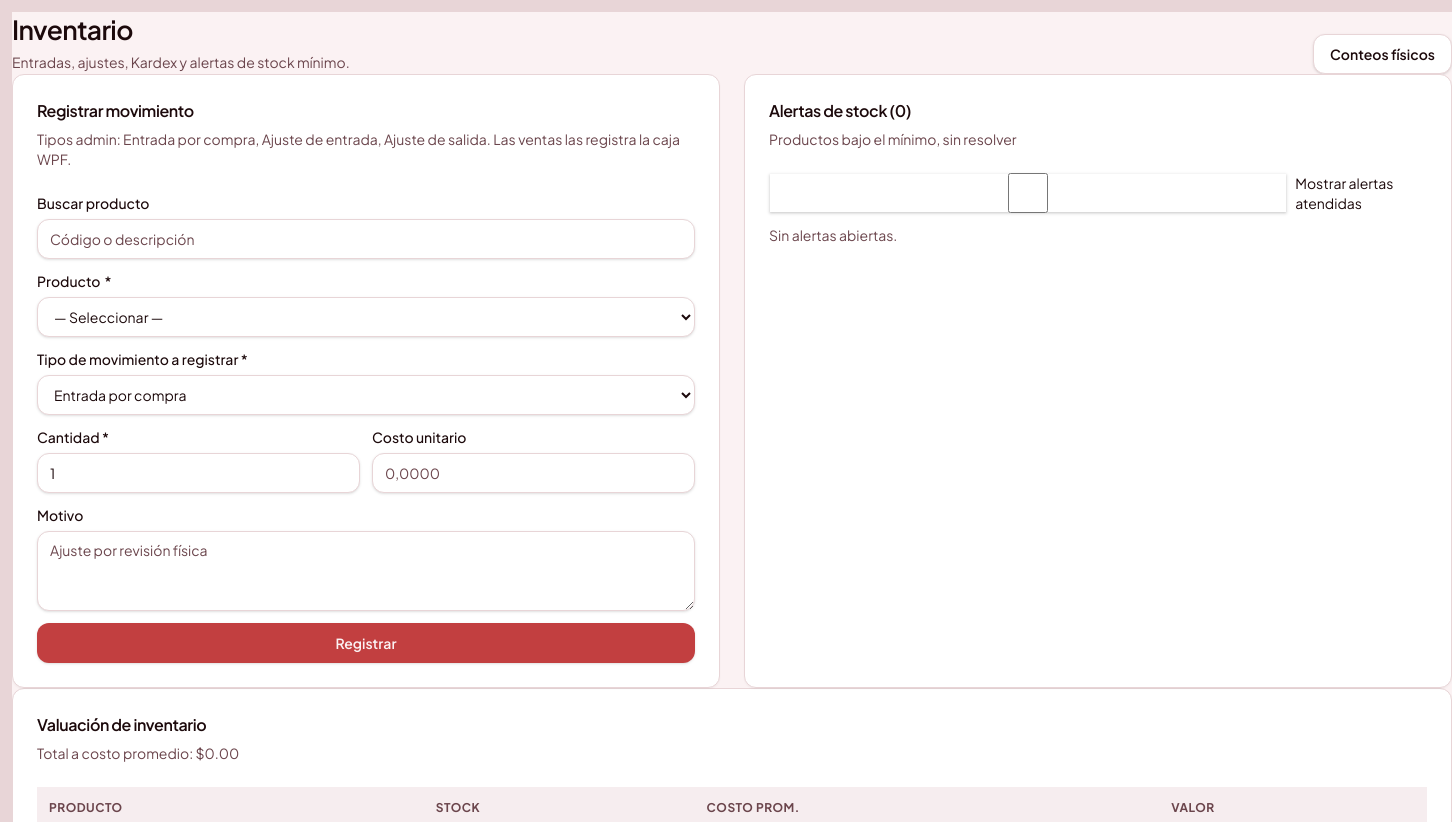
Test: tabla de movimientos de inventario › rechaza un costo unitario negativo antes de abrir la confirmacion
Select "P-1 — Producto 1 (stock 5)" in the dropdown labelled "Producto": (366,317) [37,297,695,337]
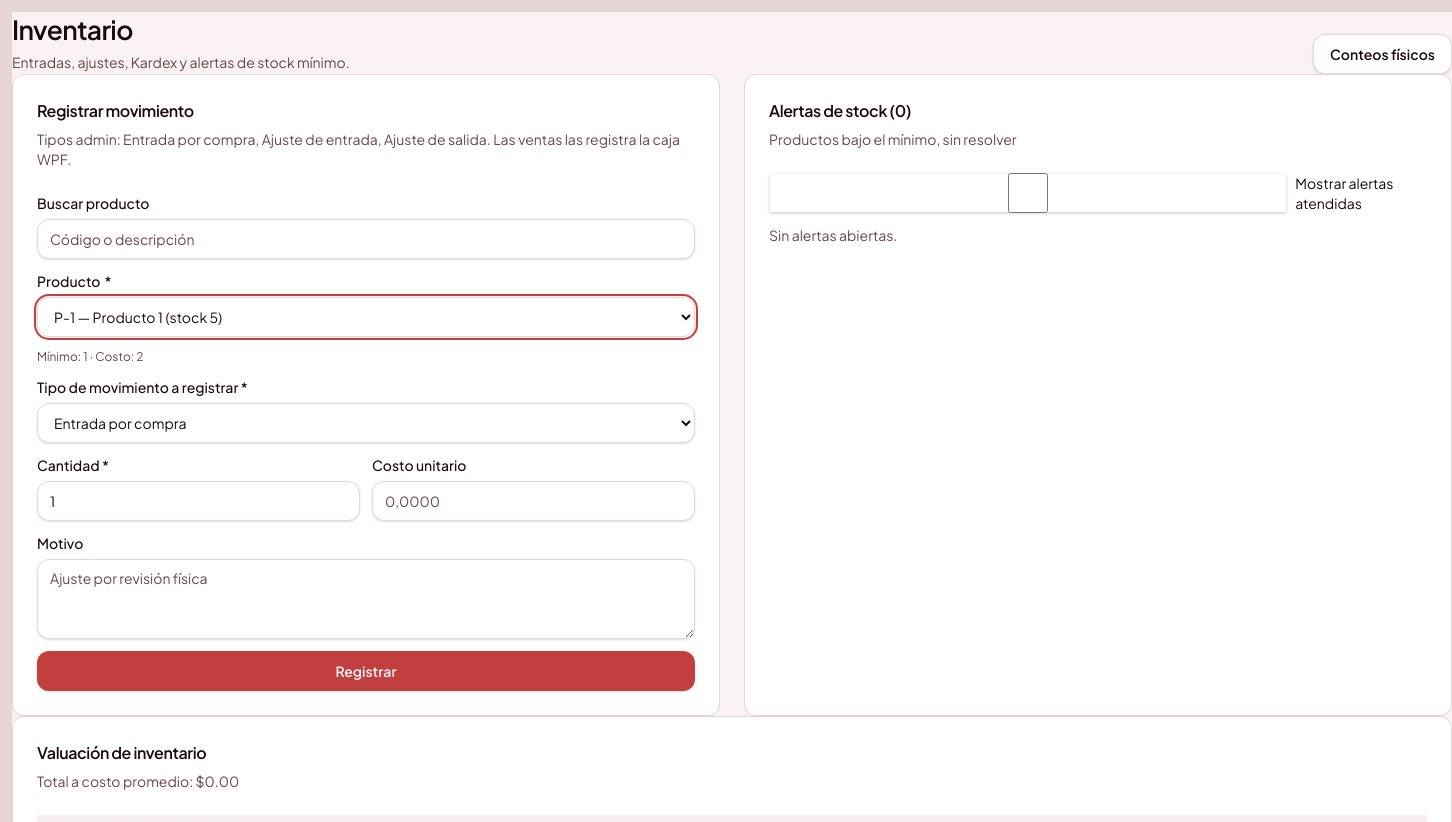
In the number field labelled "Costo unitario": (534,501) [372,481,695,521], type "-1"
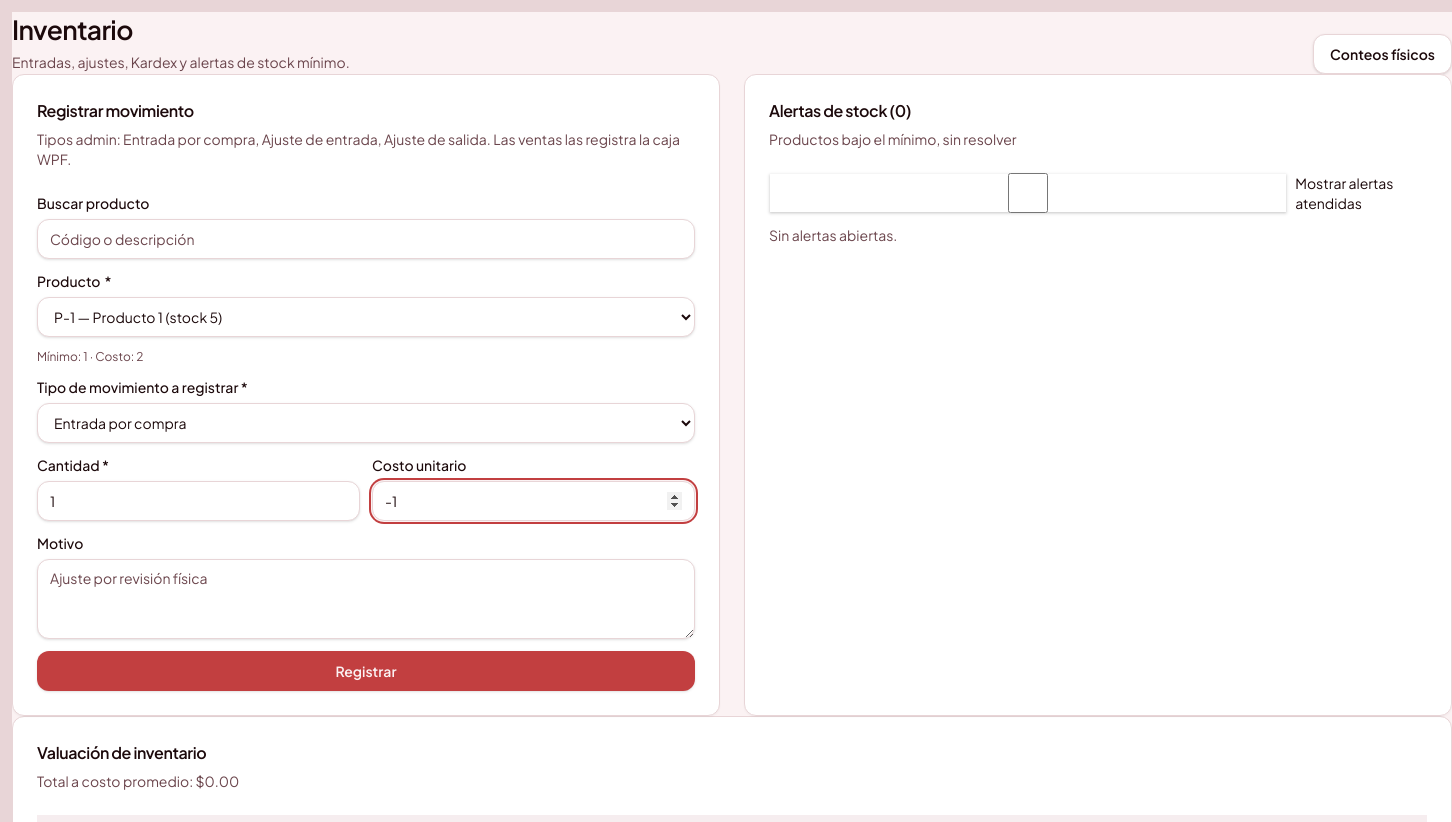
Click the button "Registrar": (366,671) [37,651,695,691]
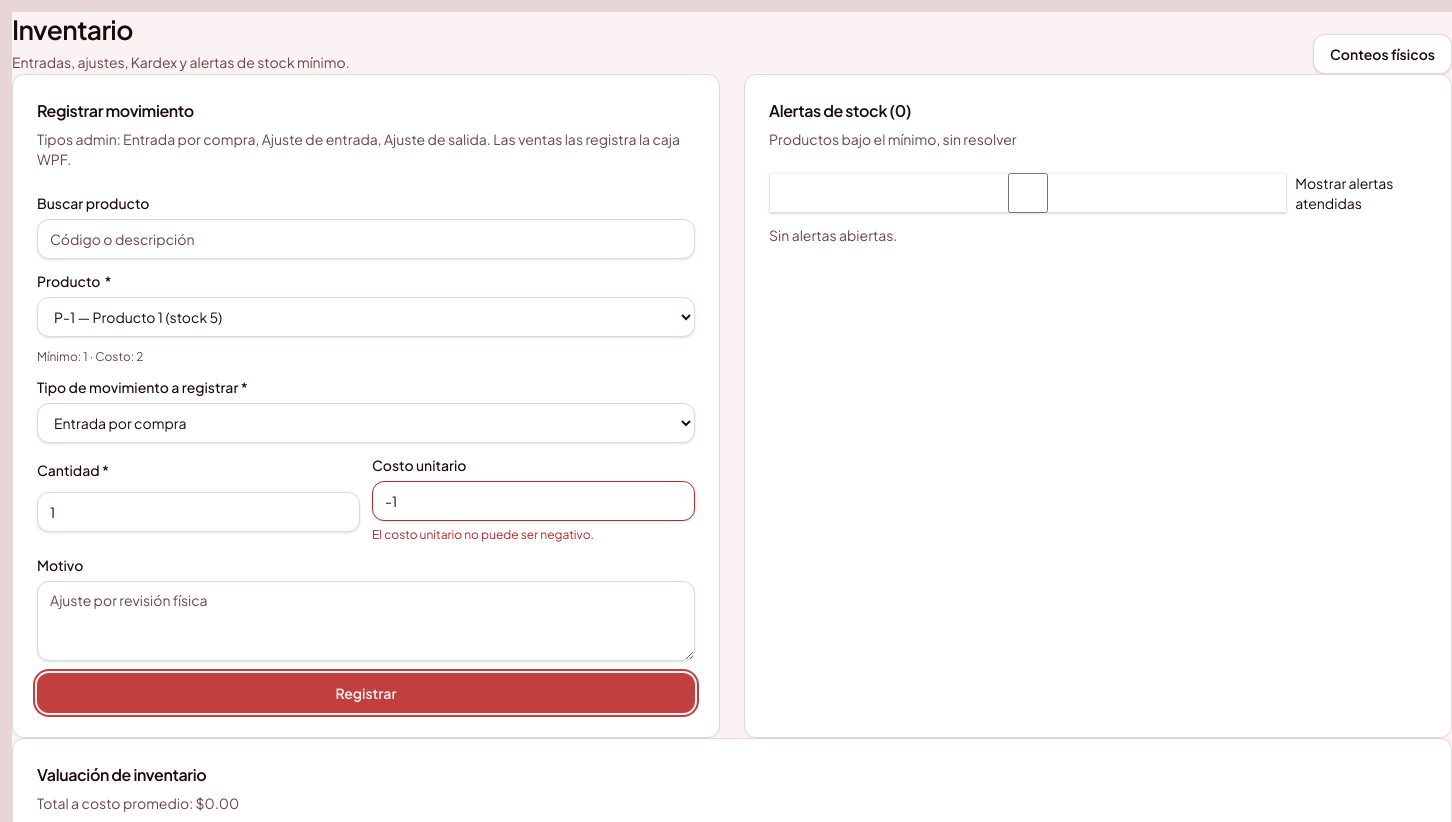
Expected: the message reads "El costo unitario no puede ser negativo.", [372,527,594,542]
